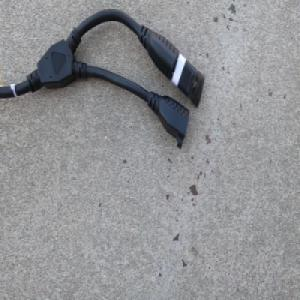Wire: (0, 7, 205, 150)
